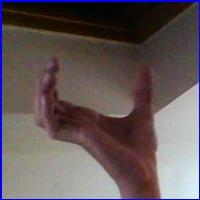space: (31, 41, 174, 173)
